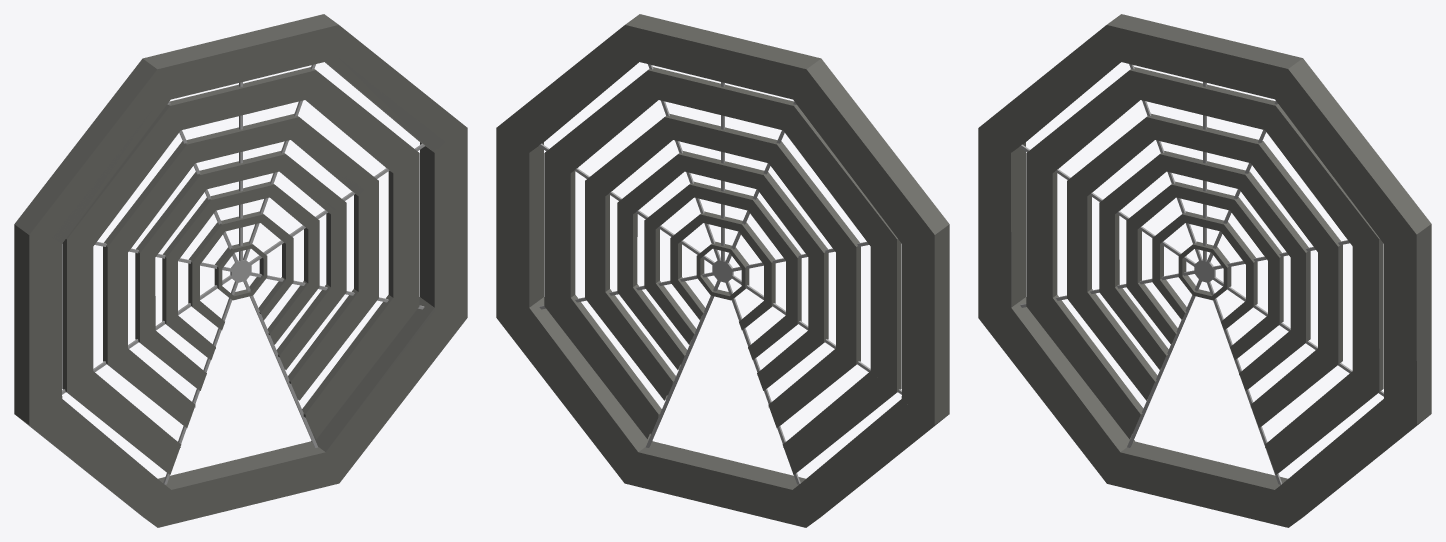
The model's file is WEB_01.fbx.
3 views of the same model, side by side, from view 1: azimuth 30°, elevation 25°; view 2: azimuth 150°, elevation 25°; view 3: azimuth 330°, elevation 25° (orthographic).
Visible parts, largest first — view 1: WEB_02; view 2: WEB_02; view 3: WEB_02.
Part boxes in pixels (box(x1,y1,x2,y2)): WEB_02: box(14, 14, 467, 527); WEB_02: box(496, 14, 949, 527); WEB_02: box(978, 14, 1431, 527).
Bounding box in the file's own units: 16.57 × 16.57 × 0.9732.
Materials: 2 (1 with a texture image).
